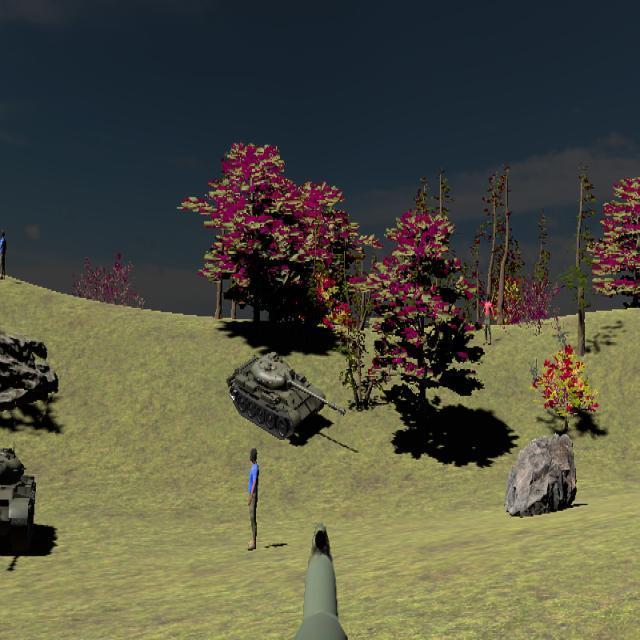Human: (247, 448, 259, 550), (481, 293, 495, 345)
Tank: (226, 352, 347, 441), (0, 444, 37, 550)
